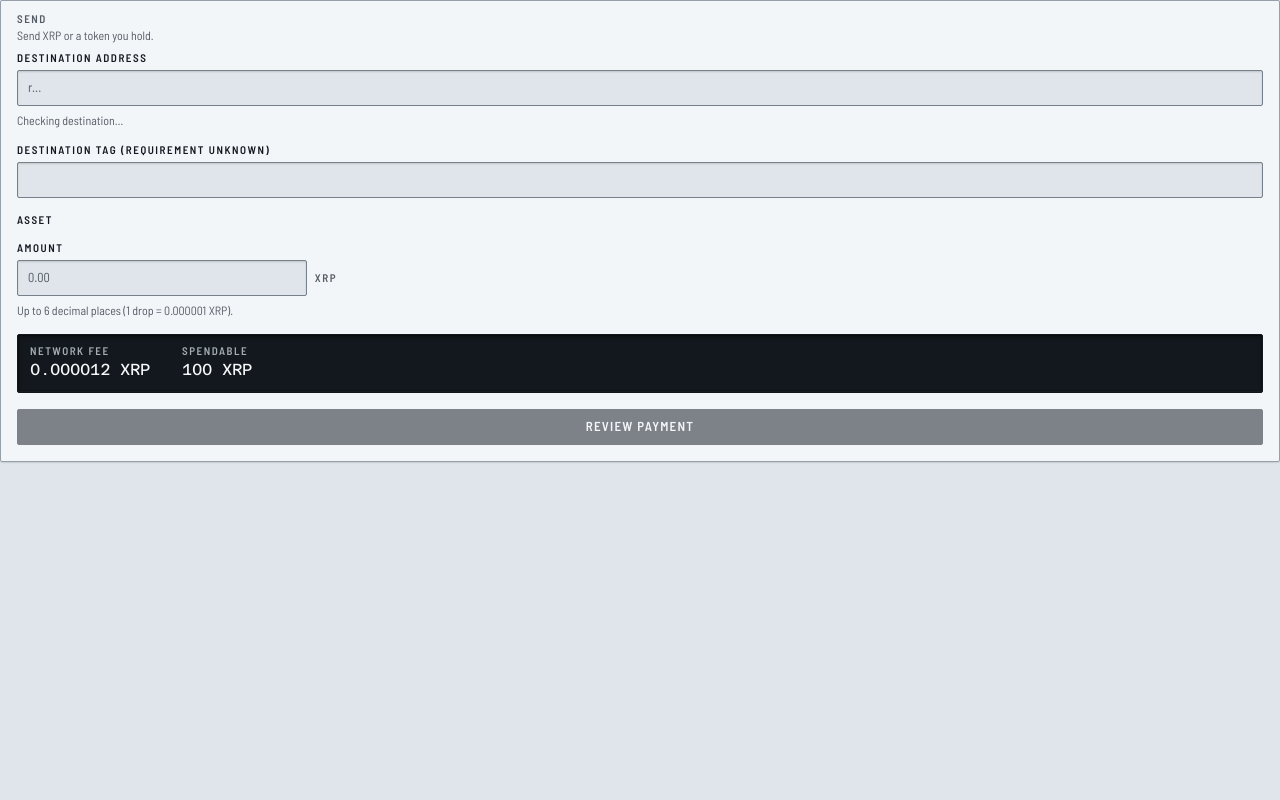
Test: SendTab — the first-send warning is decided on the pair › keeps the original address warning for an address never sent to
Type "rHb9CJAWyB4rj91VRWn96DkukG4bwdtyTh" into the field labelled "Destination address" at x=640, y=88, box x1=17 y1=70 x2=1263 y2=106
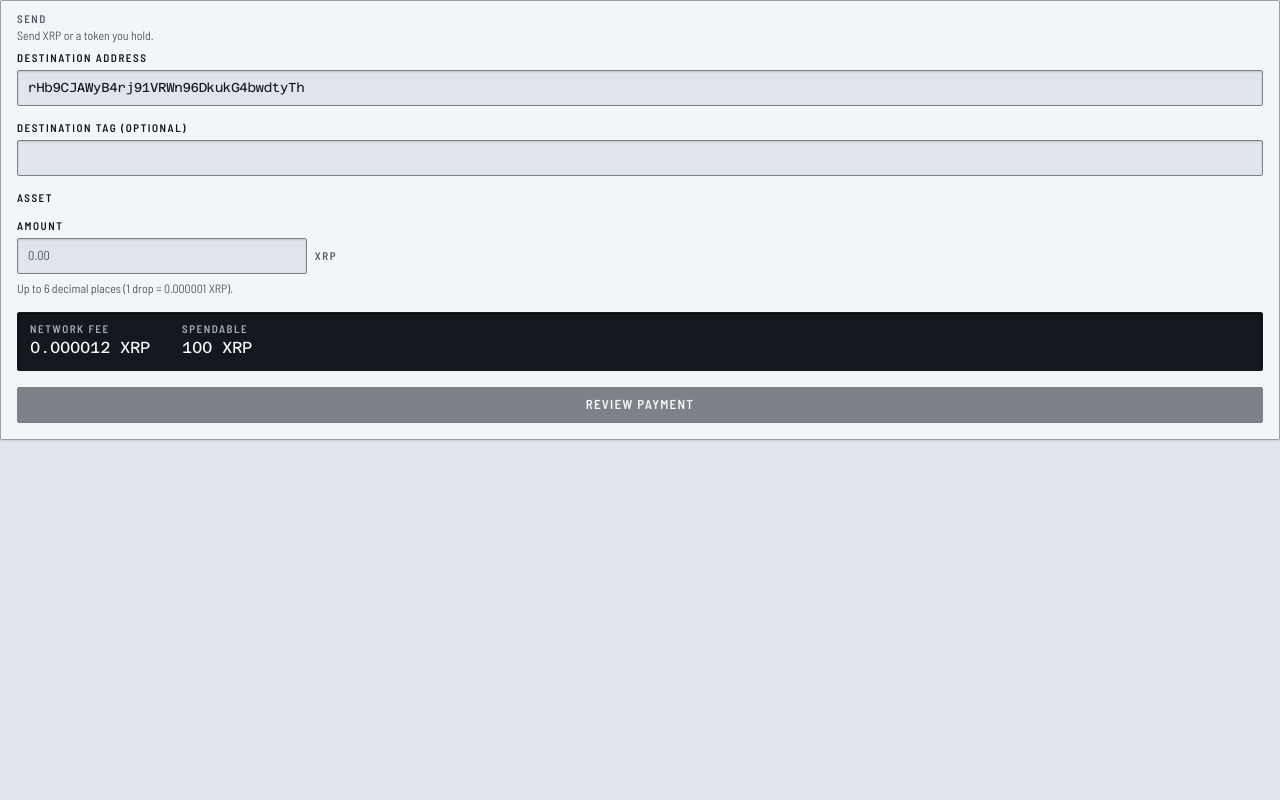
Type "1" into the field labelled "Amount" at x=162, y=256, box x1=17 y1=238 x2=307 y2=274
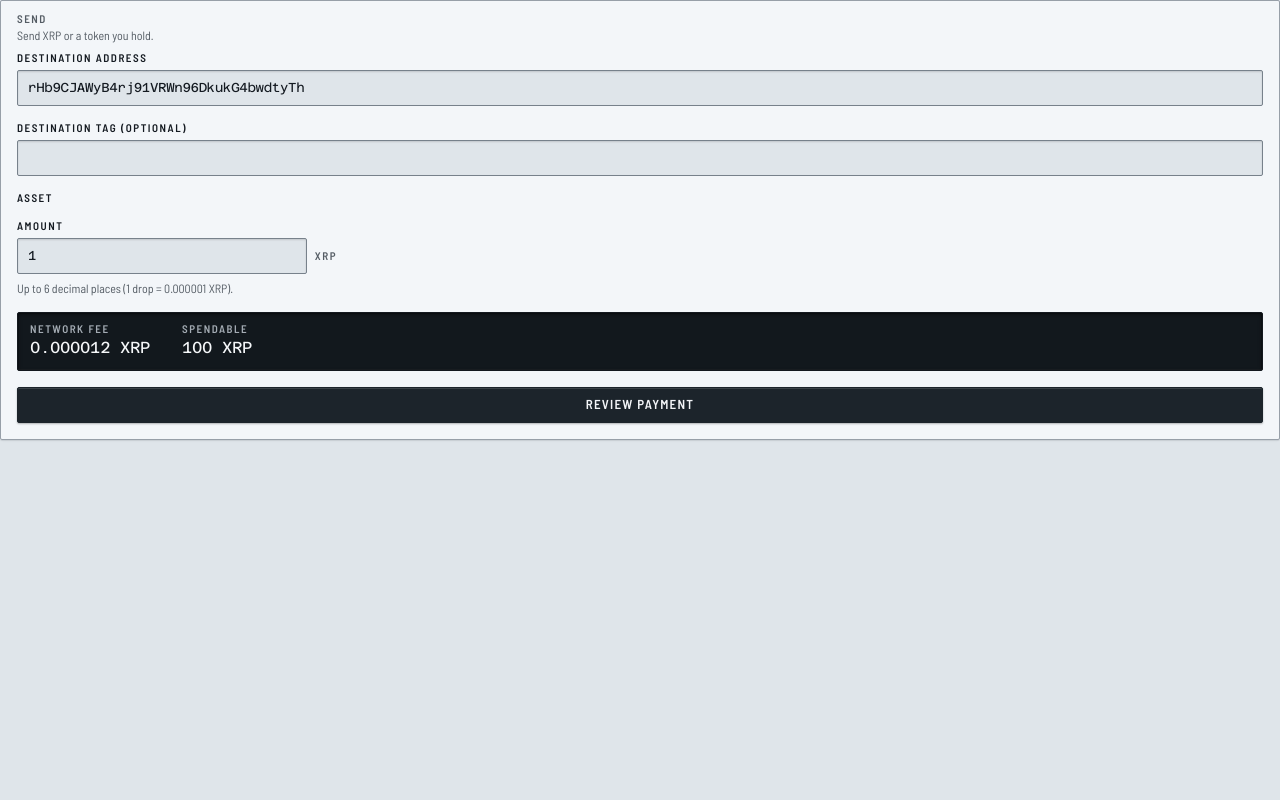
Type "1" into the field labelled "Destination tag (optional)" at x=640, y=158, box x1=17 y1=140 x2=1263 y2=176
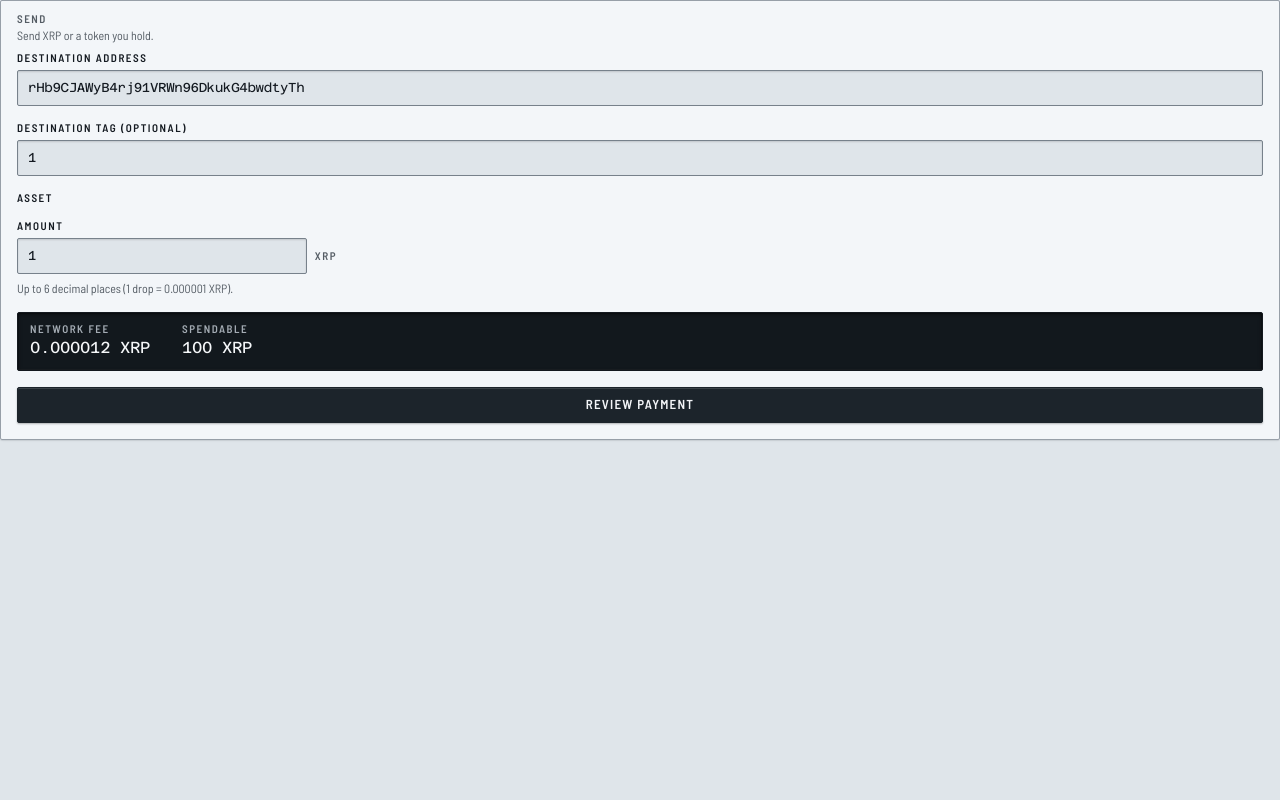
Click the button "Review payment" at x=640, y=405, box x1=17 y1=387 x2=1263 y2=423
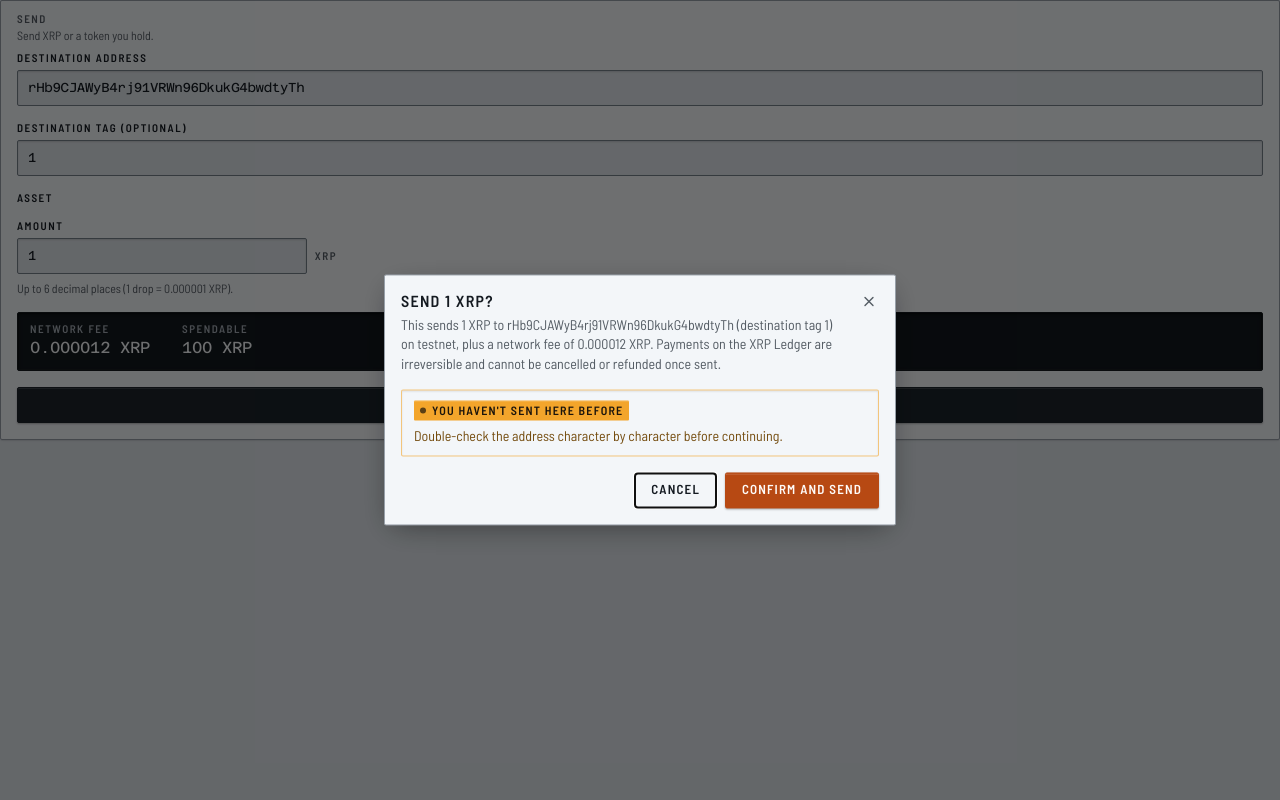
expect the text "You haven't sent here before" is shown: met, box x1=414 y1=400 x2=629 y2=420
expect the text "character by character" is shown: met, box x1=414 y1=427 x2=783 y2=444
